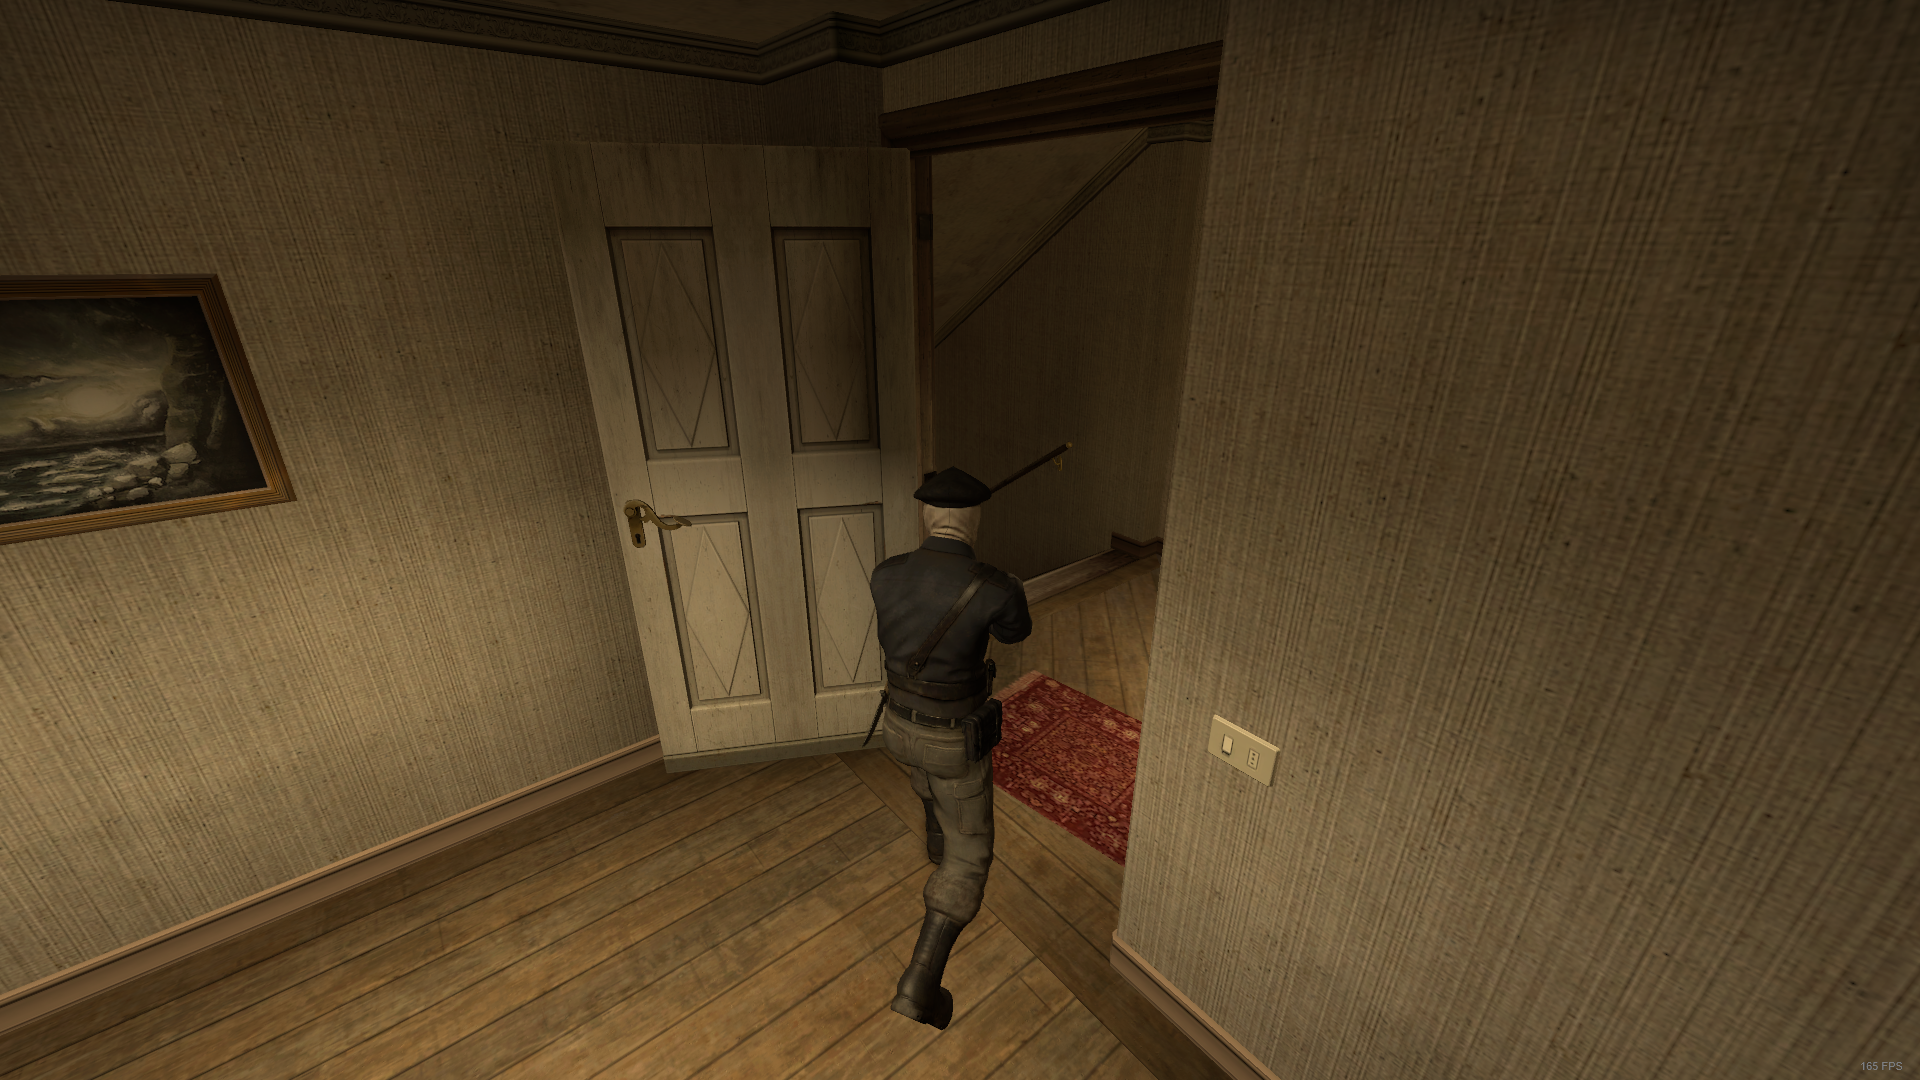t: (833, 458, 1034, 1035)
